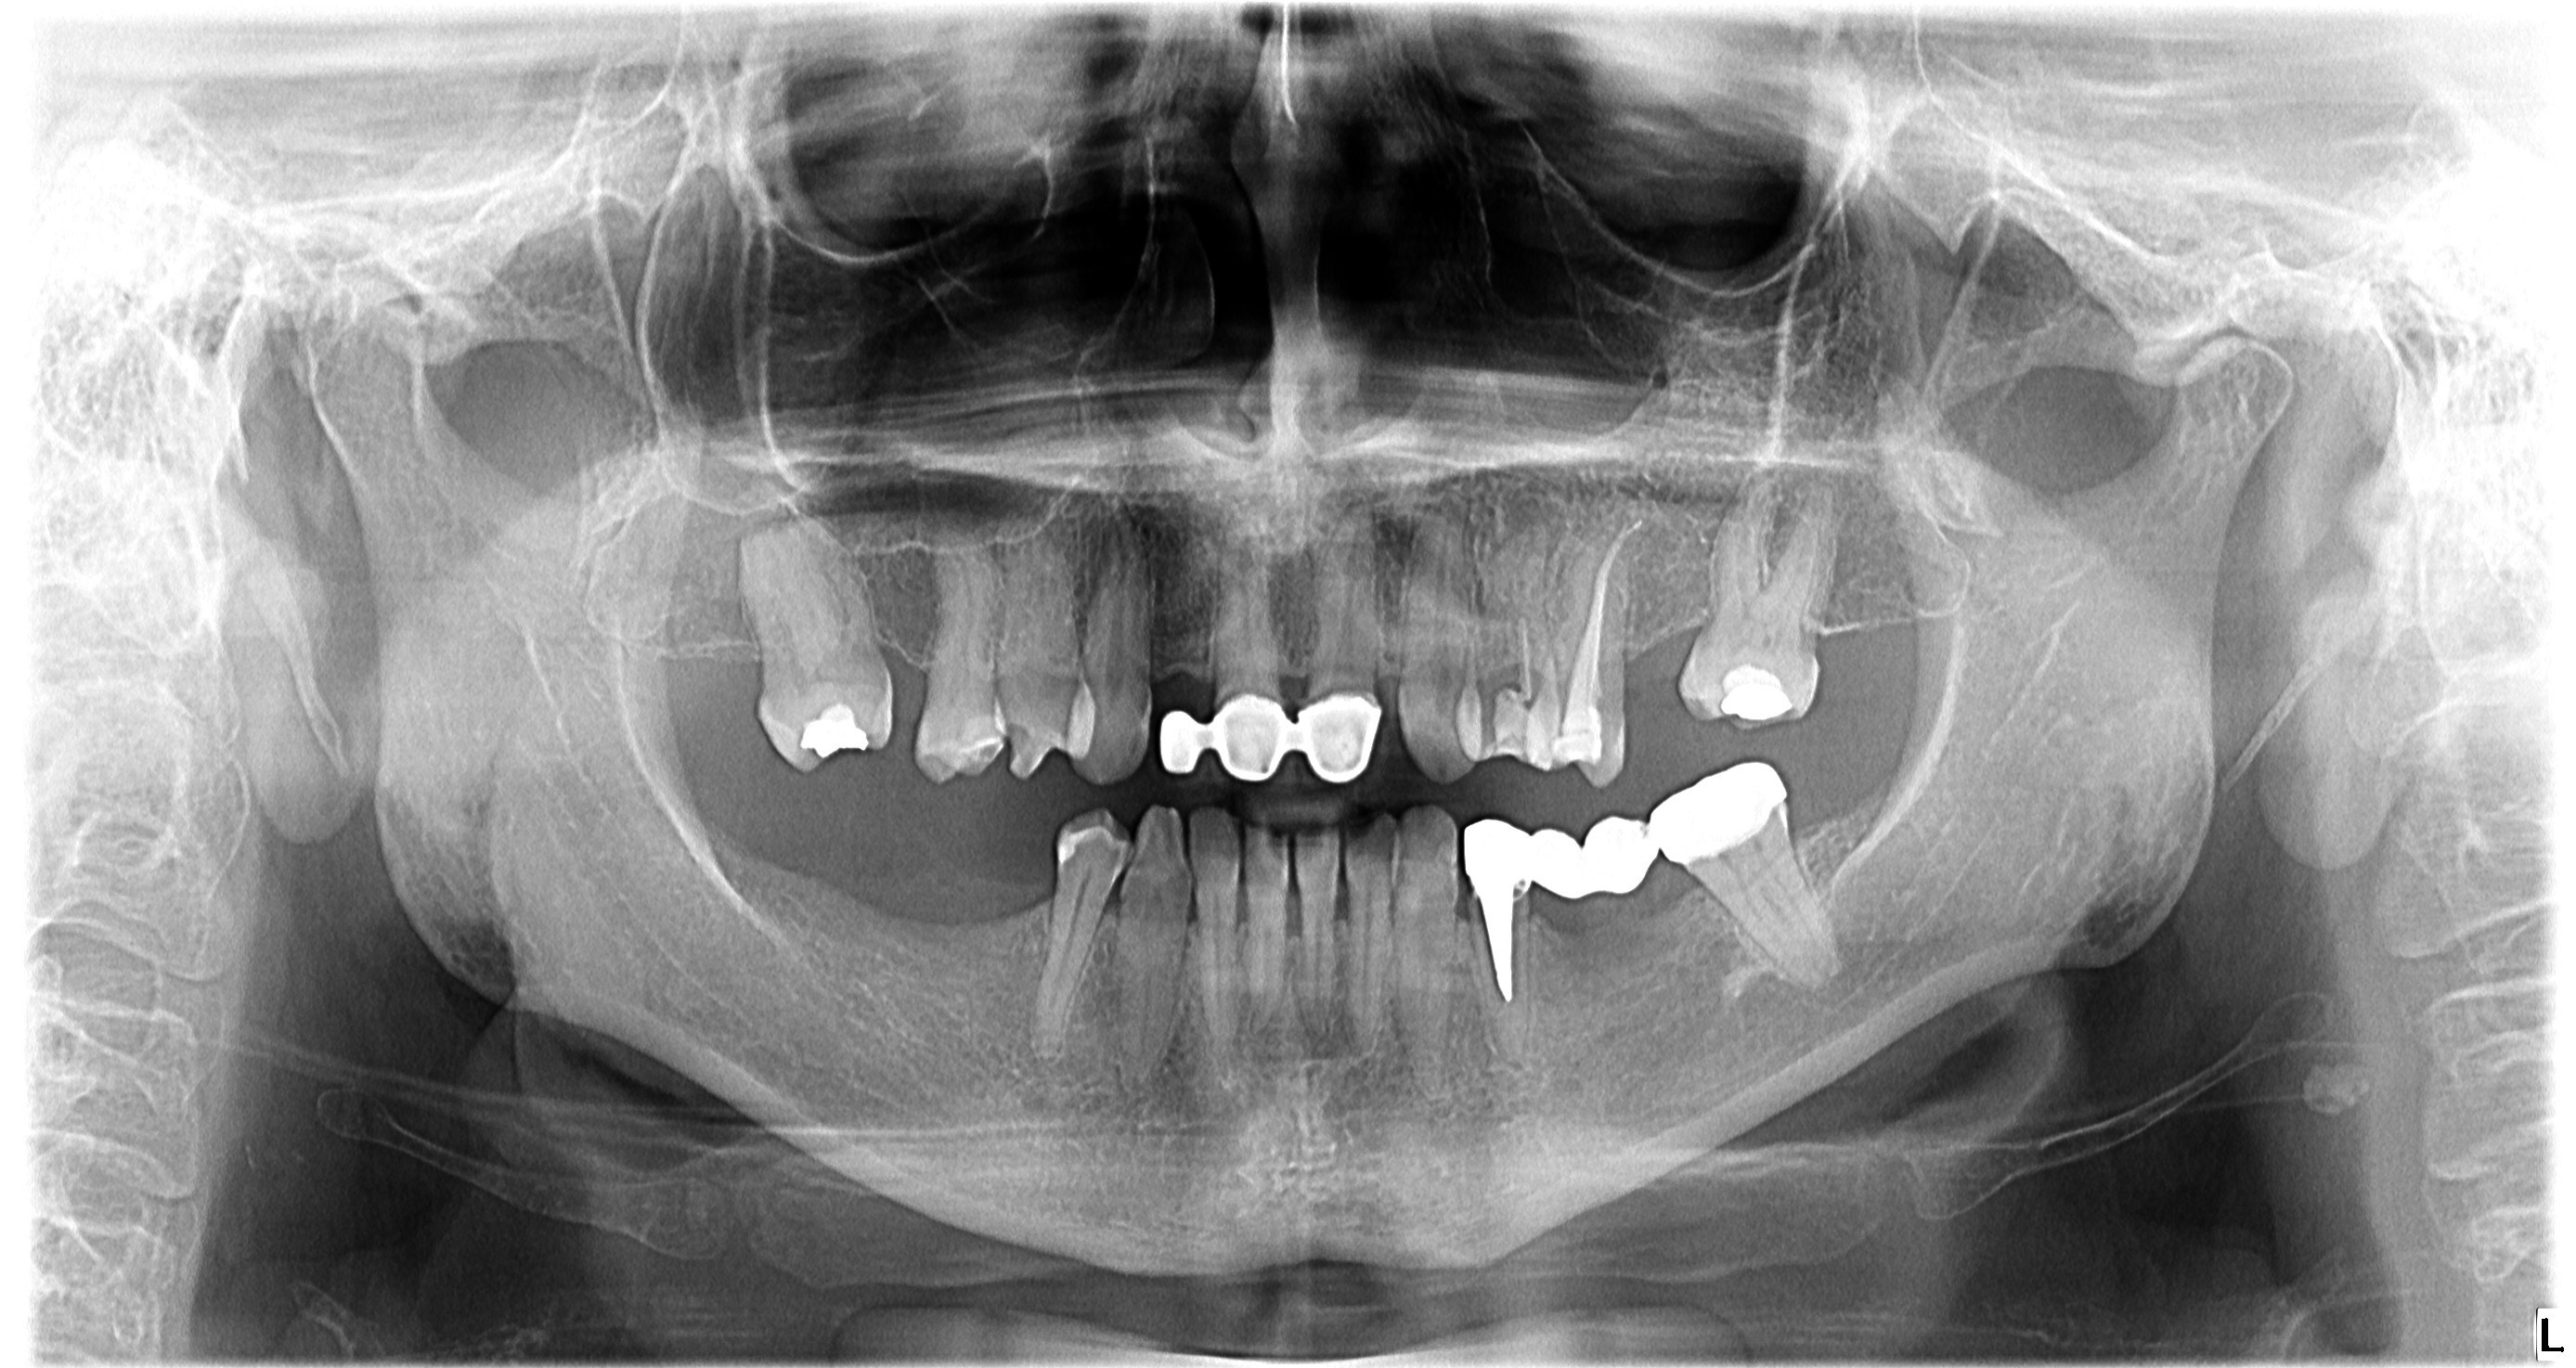BON: (1607, 579, 1719, 685), (1130, 641, 1225, 733), (859, 617, 937, 719), (1206, 867, 1269, 963), (1269, 881, 1325, 974), (1324, 867, 1373, 952)
END: (1554, 508, 1658, 714), (1469, 865, 1530, 1010)
OBT: (1712, 652, 1813, 736), (794, 690, 883, 775), (1489, 681, 1562, 780), (1545, 687, 1620, 772)
PRR: (1152, 678, 1389, 796), (1455, 808, 1665, 903), (1639, 753, 1792, 871)
